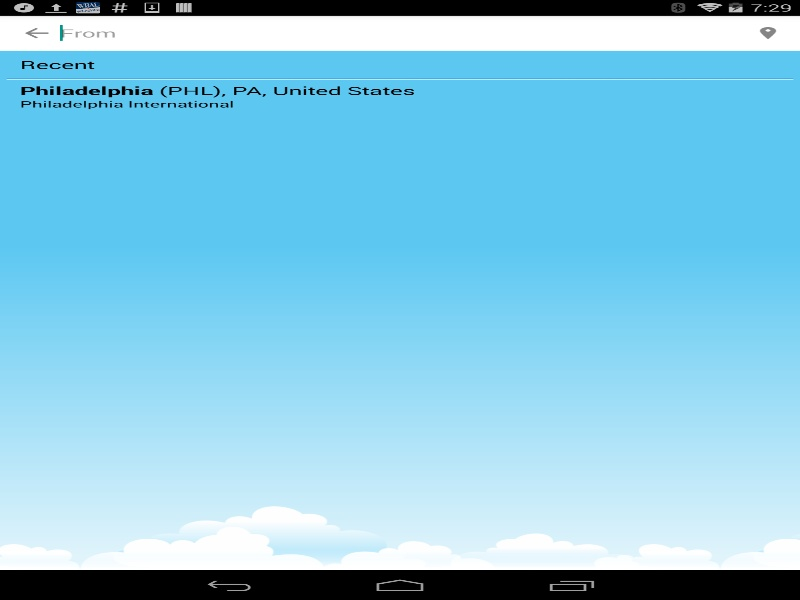Input: (60, 25, 742, 40)
